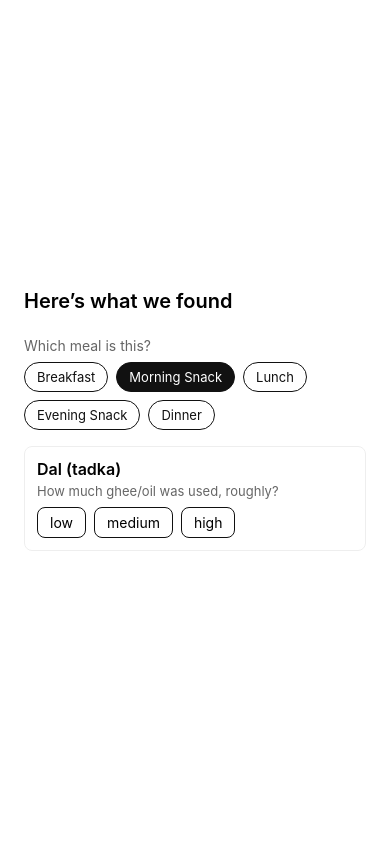
Test: MealResultsScreen › shows a disambiguation picker instead of macros for a low-confidence dish, then resolves it
Click the element with test id "oil-option-0-medium" at (133, 522), box [94, 507, 173, 538]
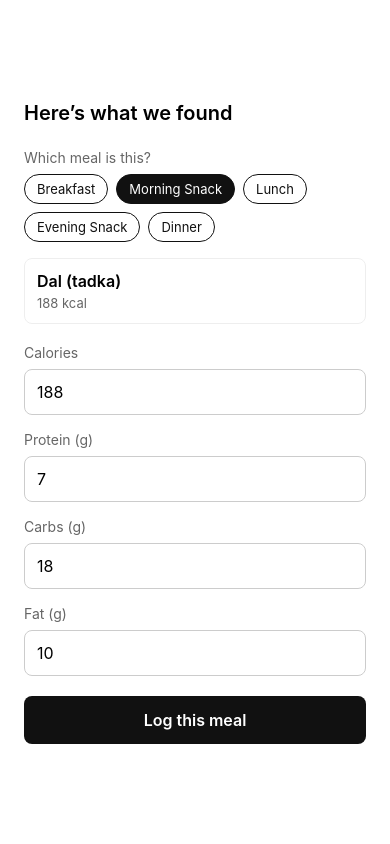
Now the field with test id "calories-input" holds "188", box [24, 368, 366, 414]
Now the element with test id "log-meal-button" is shown, box [24, 696, 366, 744]
